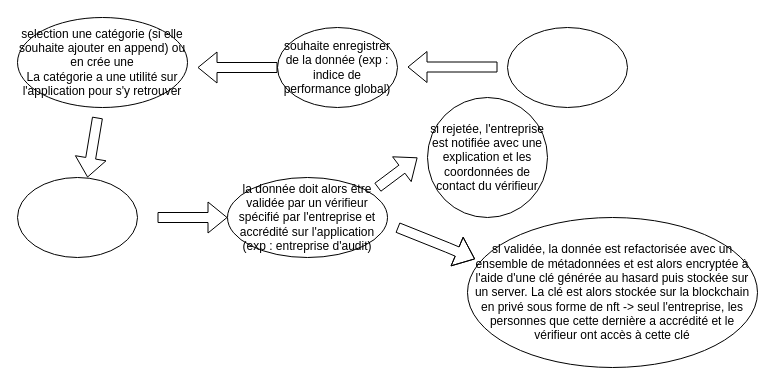
Some shapes in this 775 by 385 pixel diagram are drawn without their labels. The shapes that lost their labels are listed below. From the top down, each one's box as (x1, y1, x2, y2) in pixels, then its label:
(506, 26, 628, 108): entreprise
(16, 176, 138, 258): entre la donnée (peut etre un fichier texte, xml, etc) puis envoie
